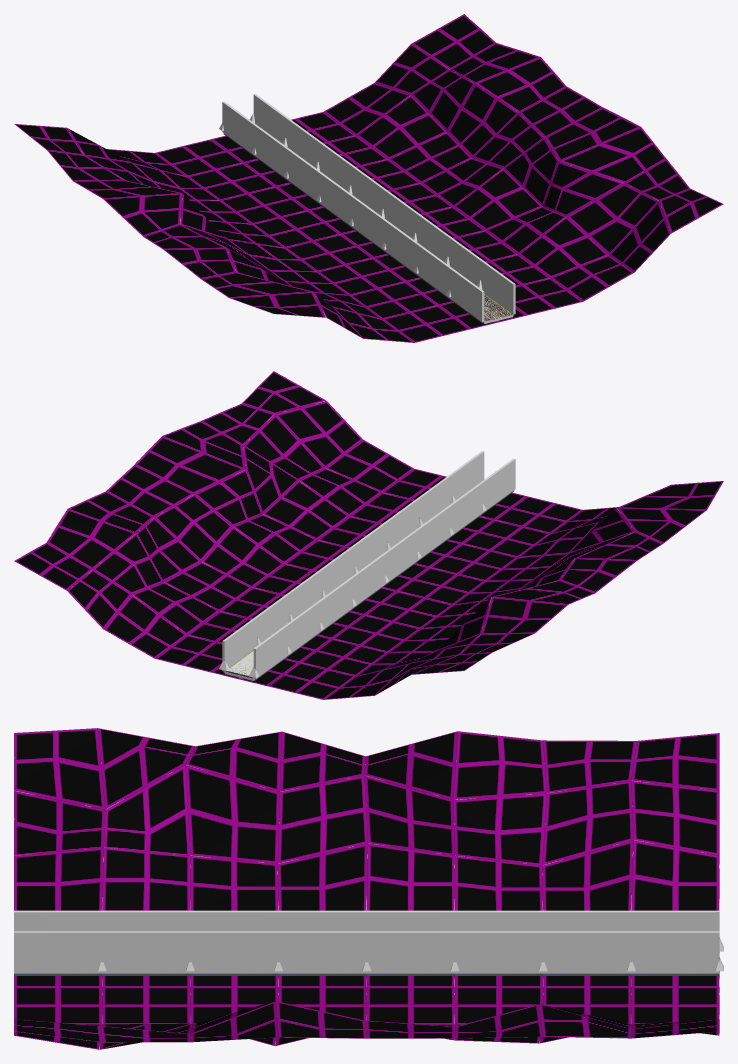
Rendered from RoadLevel1_var1.fbx.
3 renders of one model, top to bottom at view 1: azimuth 30°, elevation 25°; view 2: azimuth 150°, elevation 25°; view 3: azimuth 270°, elevation 25°, orthographic. The views are drawn at different scales.
Visible parts, largest first — view 1: RoadLevel1_var1_LOD0, RoadLevel1_cldr_walls; view 2: RoadLevel1_var1_LOD0, RoadLevel1_cldr_walls, RoadLevel1_var1_GR; view 3: RoadLevel1_var1_LOD0, RoadLevel1_cldr_walls, RoadLevel1_var1_GR.
Part boxes in pixels (x1=…): RoadLevel1_var1_LOD0: x1=14, y1=14, x2=723, y2=342; RoadLevel1_cldr_walls: x1=222, y1=94, x2=515, y2=322; RoadLevel1_var1_LOD0: x1=14, y1=371, x2=723, y2=699; RoadLevel1_cldr_walls: x1=222, y1=451, x2=515, y2=679; RoadLevel1_var1_GR: x1=219, y1=495, x2=486, y2=677; RoadLevel1_var1_LOD0: x1=14, y1=728, x2=719, y2=1049; RoadLevel1_cldr_walls: x1=14, y1=910, x2=719, y2=973; RoadLevel1_var1_GR: x1=98, y1=938, x2=723, y2=971.
Size of what is drawn, in the model's own units: 426 by 56.19 by 402.
